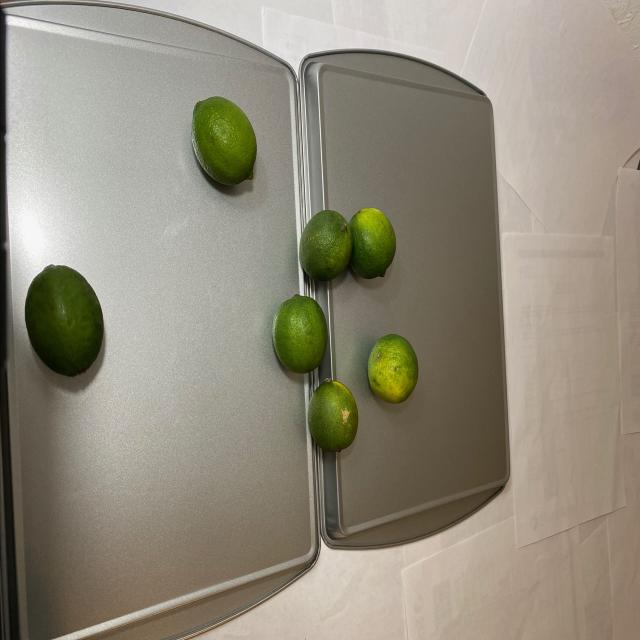lemon: (272, 205, 418, 459), (23, 260, 103, 377), (190, 94, 260, 190)
